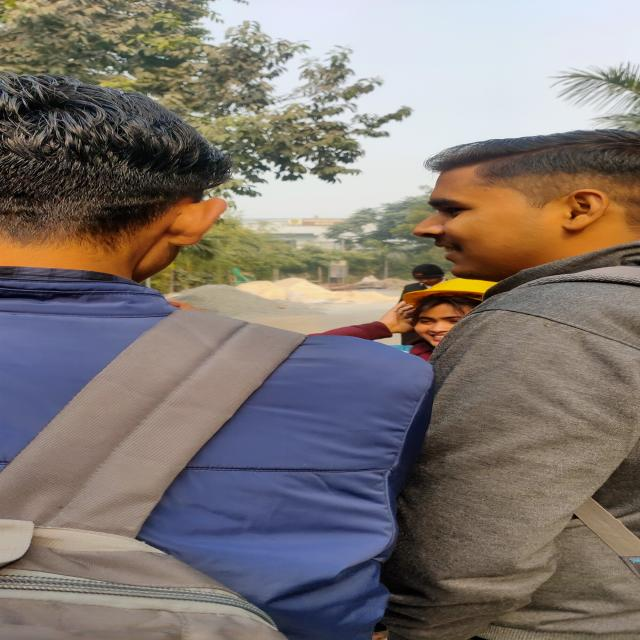unsafe: (0, 89, 395, 640), (401, 122, 639, 640)
